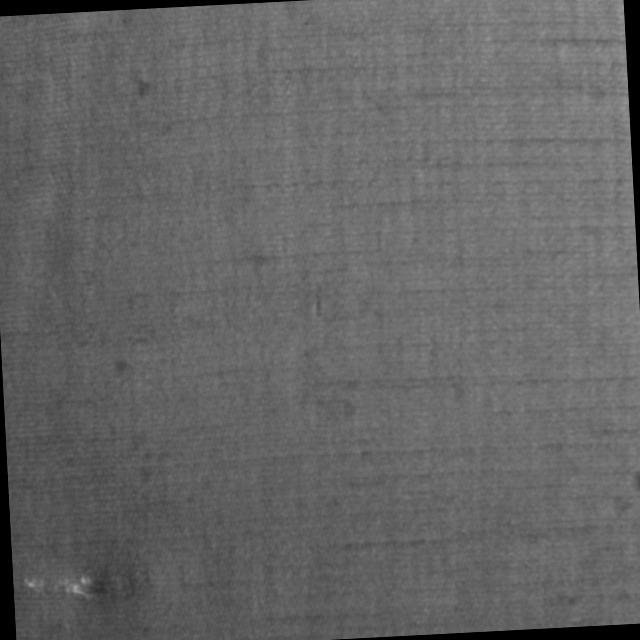thread error: (13, 559, 133, 608)
